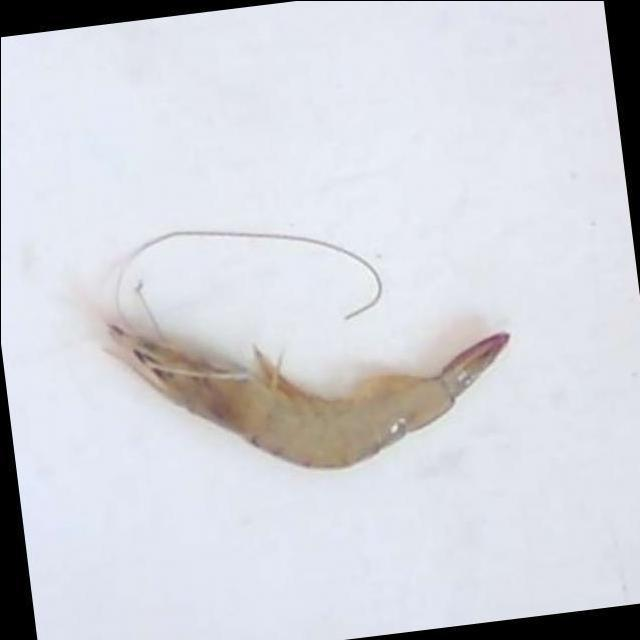shrimp: (106, 325, 509, 469)
